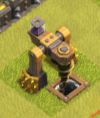dark_elixir_colector: (19, 14, 89, 109)
